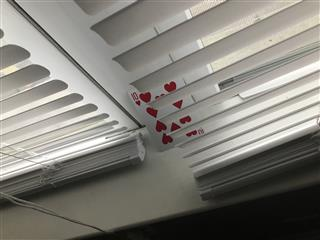TenOfHearts: (126, 74, 206, 152)
